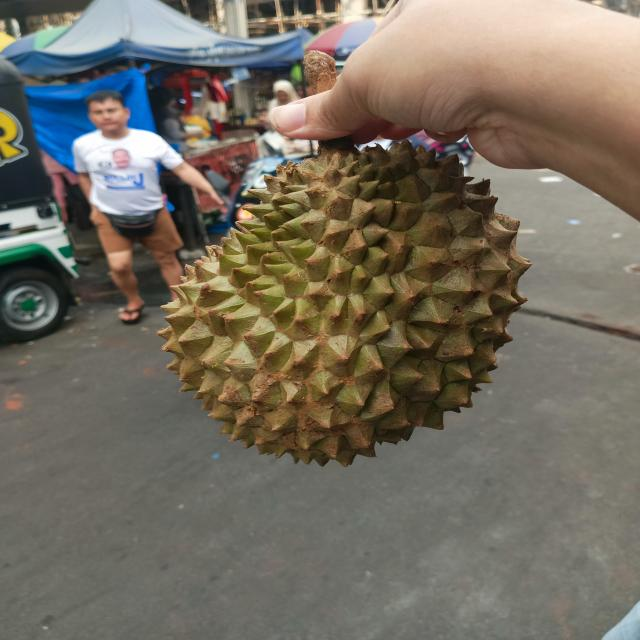mature: (155, 147, 529, 466)
